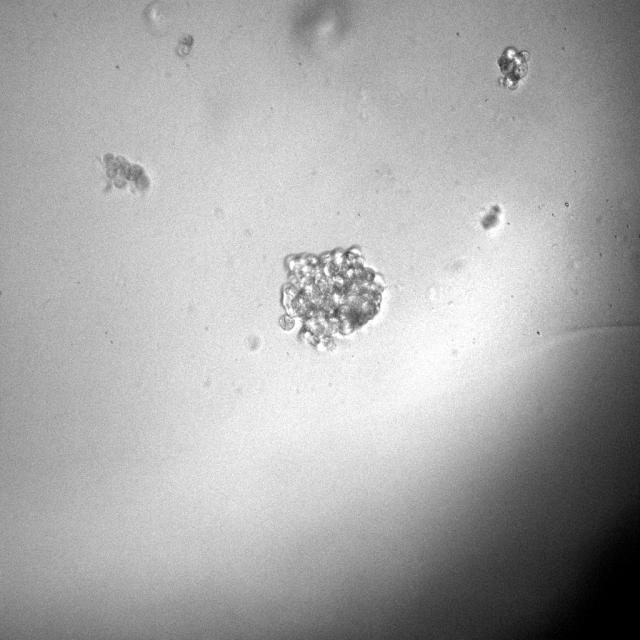organoid: (279, 247, 384, 349), (98, 152, 151, 194), (498, 46, 528, 90)
